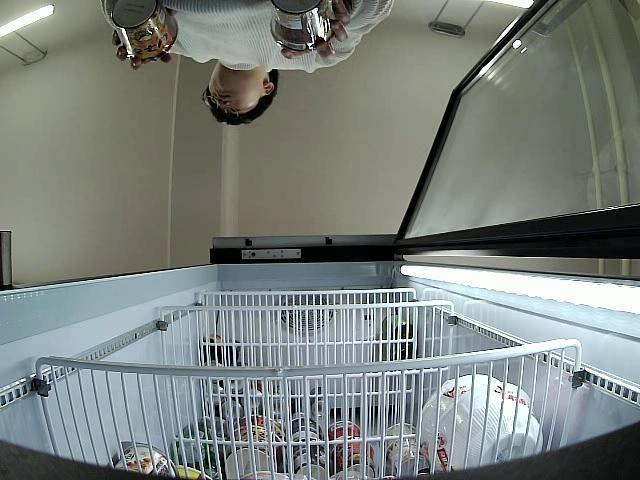06_nuguri_S: (112, 0, 178, 59), (271, 0, 338, 51)
